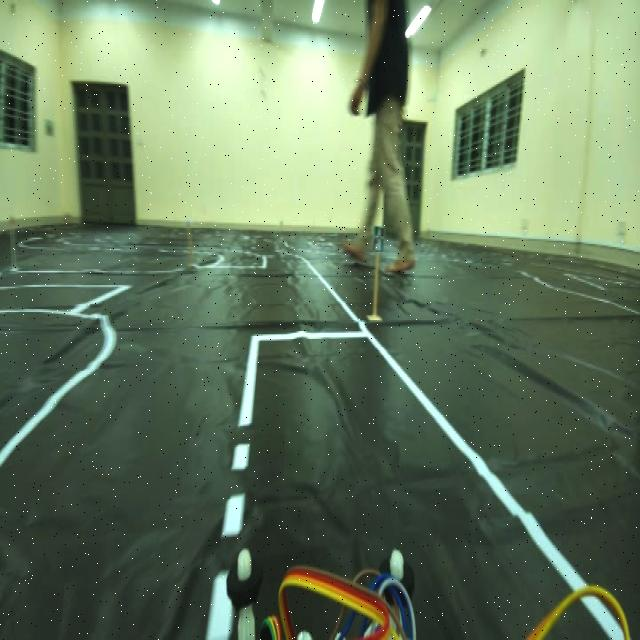highway_exit: (368, 221, 390, 259)
